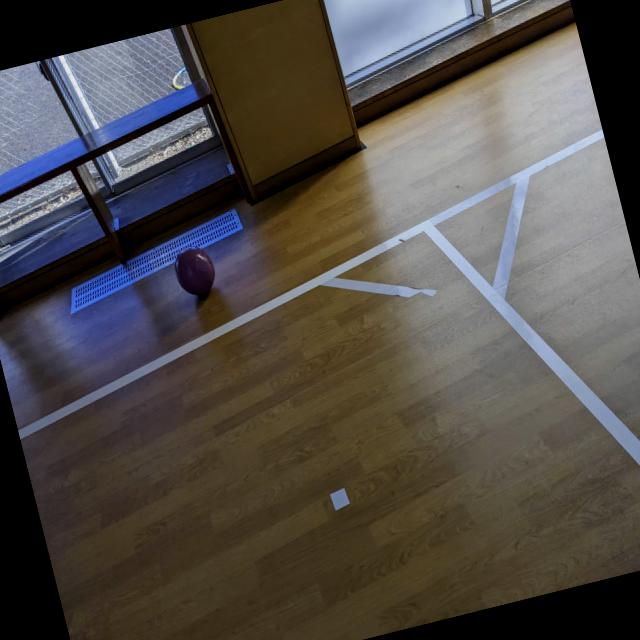purple_ball: (169, 238, 221, 298)
